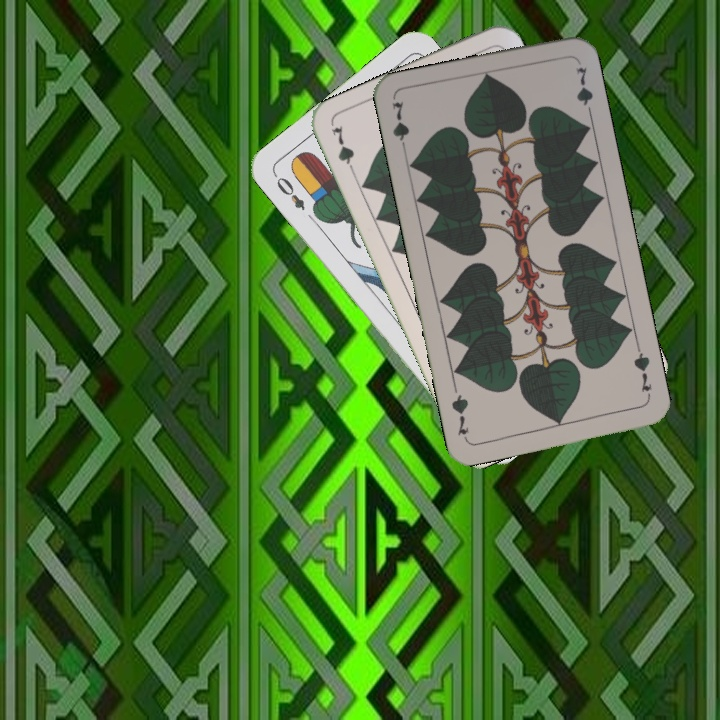EO: (269, 169, 308, 213)
G7: (328, 121, 359, 180), (630, 343, 655, 402), (388, 97, 412, 156)
